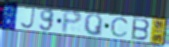9: (38, 8, 56, 32)
B: (130, 17, 151, 41)
C: (110, 16, 130, 38)
J: (19, 6, 37, 30)
P: (62, 10, 84, 34)
Q: (83, 13, 104, 38)
